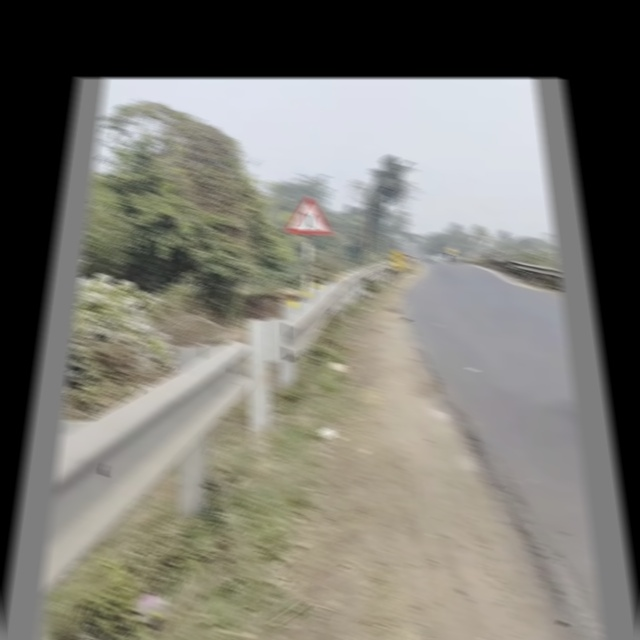Narrow_Bridge: (288, 196, 329, 234)
